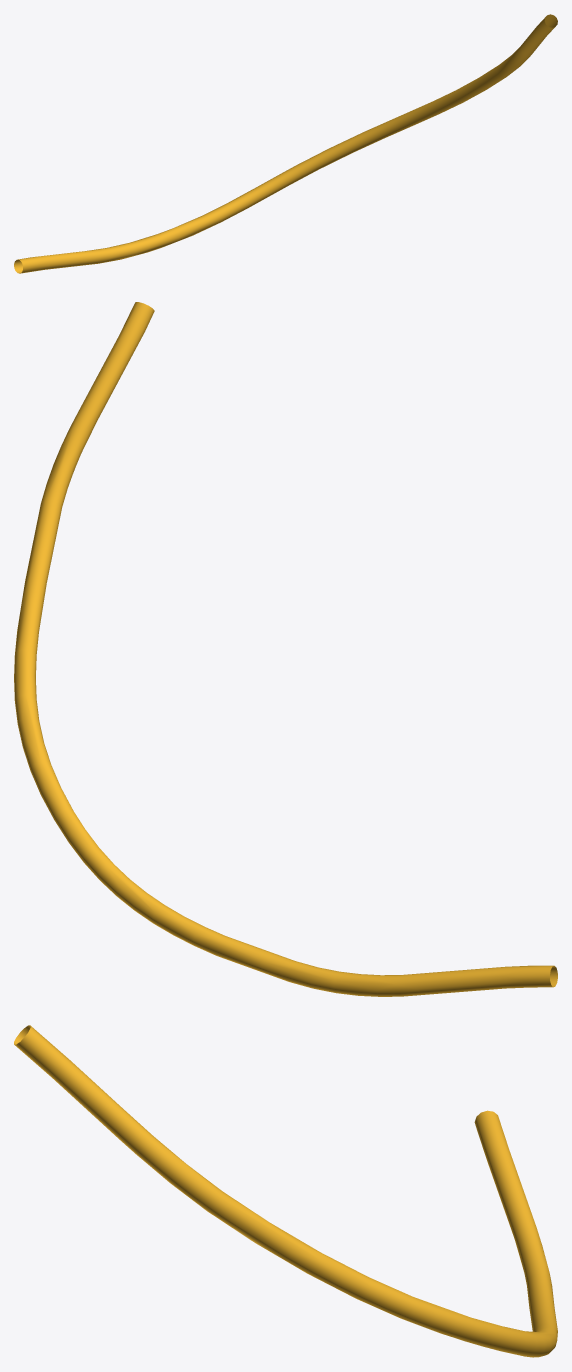
The model's file is nervoso-muscular-branches-of-axillary-nerve-l.glb.
3 renders of one model, top to bottom at view 1: azimuth 30°, elevation 25°; view 2: azimuth 150°, elevation 25°; view 3: azimuth 270°, elevation 25°, orthographic. The views are drawn at different scales.
Visible parts, largest first — view 1: Muscular branches of axillary nerve.l; view 2: Muscular branches of axillary nerve.l; view 3: Muscular branches of axillary nerve.l.
Part boxes in pixels (box(x1,y1,x2,y2)): Muscular branches of axillary nerve.l: box(14, 14, 557, 273); Muscular branches of axillary nerve.l: box(14, 302, 557, 996); Muscular branches of axillary nerve.l: box(14, 1025, 557, 1357).
Size of the model in its own units: 0.0335 by 0.0215 by 0.0215.
